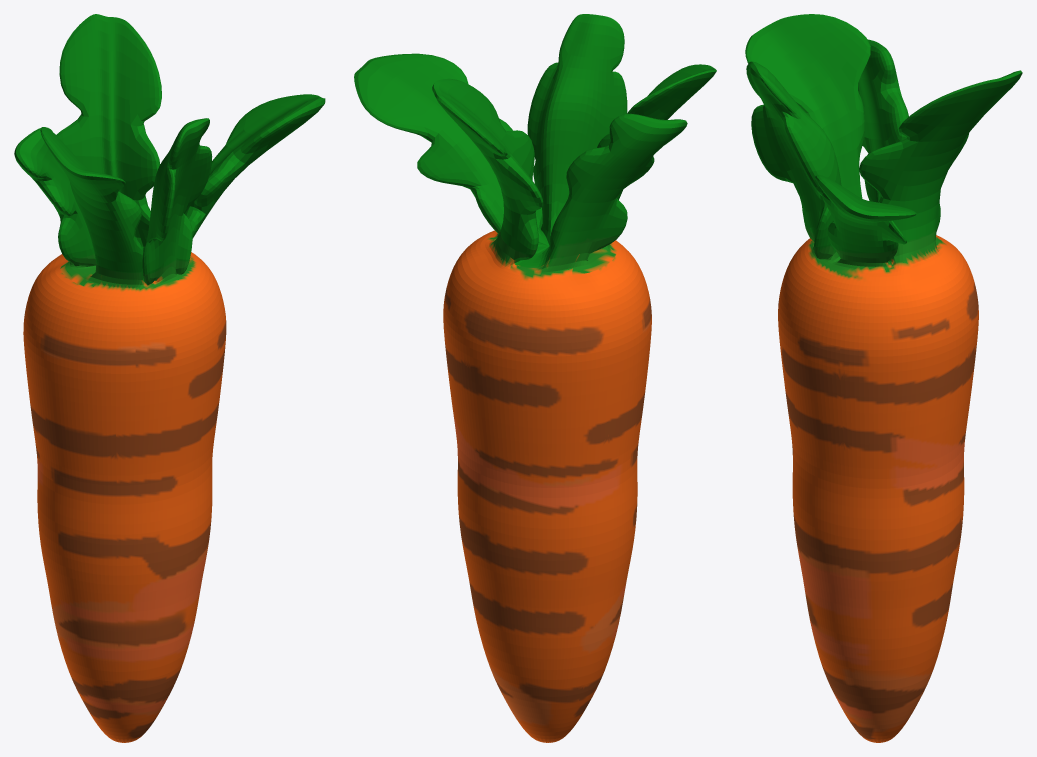
File: game_jam_carrot.fbx
3 renders of one model, left to right at view 1: azimuth 30°, elevation 25°; view 2: azimuth 150°, elevation 25°; view 3: azimuth 270°, elevation 25°, orthographic. The views are drawn at different scales.
Visible parts, largest first — view 1: Cylinder.001; view 2: Cylinder.001; view 3: Cylinder.001.
Boxes of the visible parts, box(x1,y1,x2,y2) form: Cylinder.001: box(14, 14, 325, 742); Cylinder.001: box(354, 14, 716, 742); Cylinder.001: box(745, 14, 1022, 742).
Bounding box in the file's own units: 153 × 315 × 115.
Materials: 1 (1 with a texture image).
